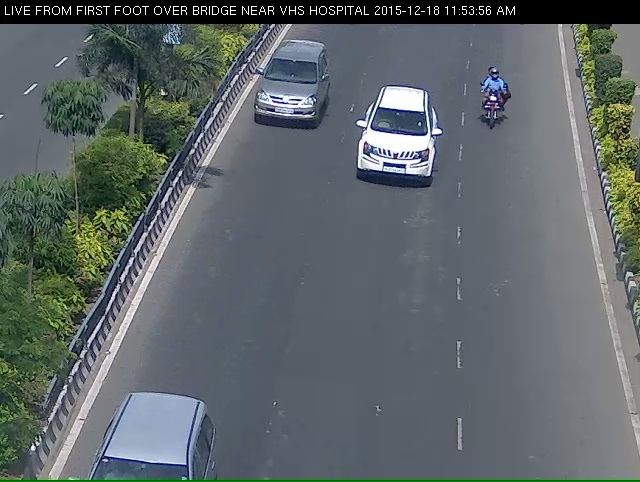Car: (347, 97, 437, 216), (241, 42, 321, 136)
Person: (476, 71, 516, 150)
